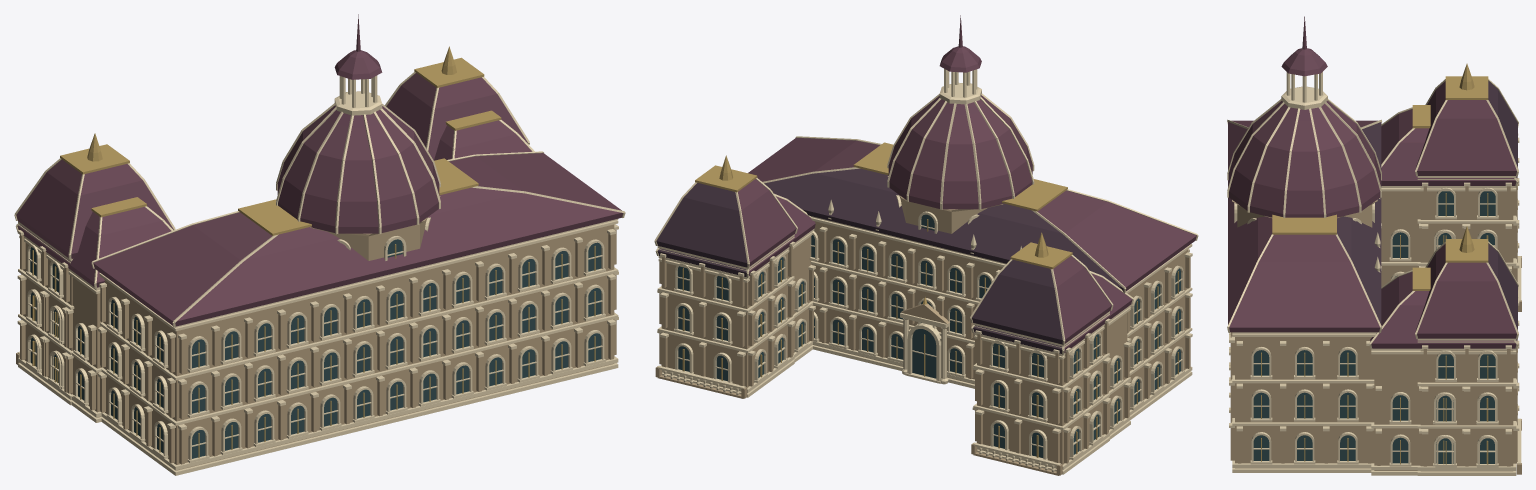
Rendered from Royal_Palace.fbx.
3 views of the same model, side by side, from view 1: azimuth 30°, elevation 25°; view 2: azimuth 150°, elevation 25°; view 3: azimuth 270°, elevation 25° (orthographic). The views are drawn at different scales.
Parts seen in each view (by area): view 1: Royal_Palace; view 2: Royal_Palace; view 3: Royal_Palace.
Boxes of the visible parts, bbox=[...] form: Royal_Palace: bbox=[14, 14, 625, 475]; Royal_Palace: bbox=[654, 15, 1198, 475]; Royal_Palace: bbox=[1227, 16, 1521, 475].
Size of the model in its own units: 43.23 by 34 by 25.42.
